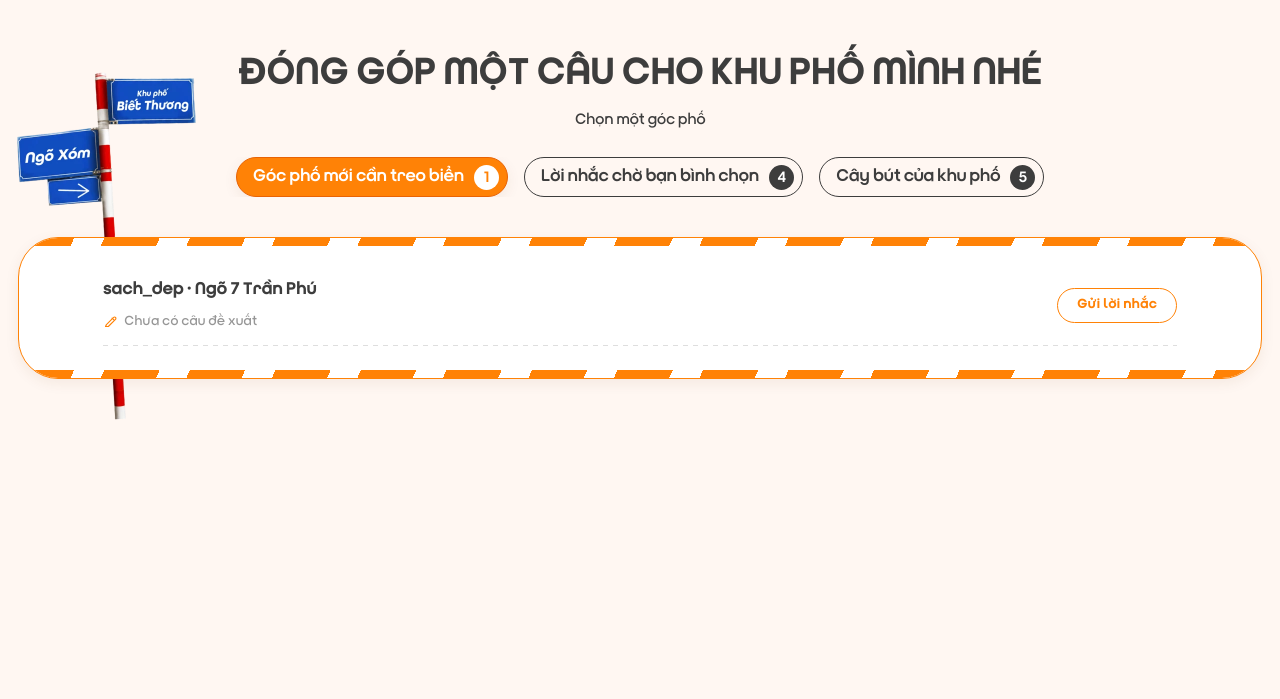
it: IssueBoard · B4/Q7 — tab 3 'Cây bút của khu phố' › huy hiệu hạng ≥4: KHÔNG có chữ TOP, số xám nhạt (.fig 7856:2708)
Click the text "Cây bút của khu phố" at (918, 177), box [836,163,1000,191]
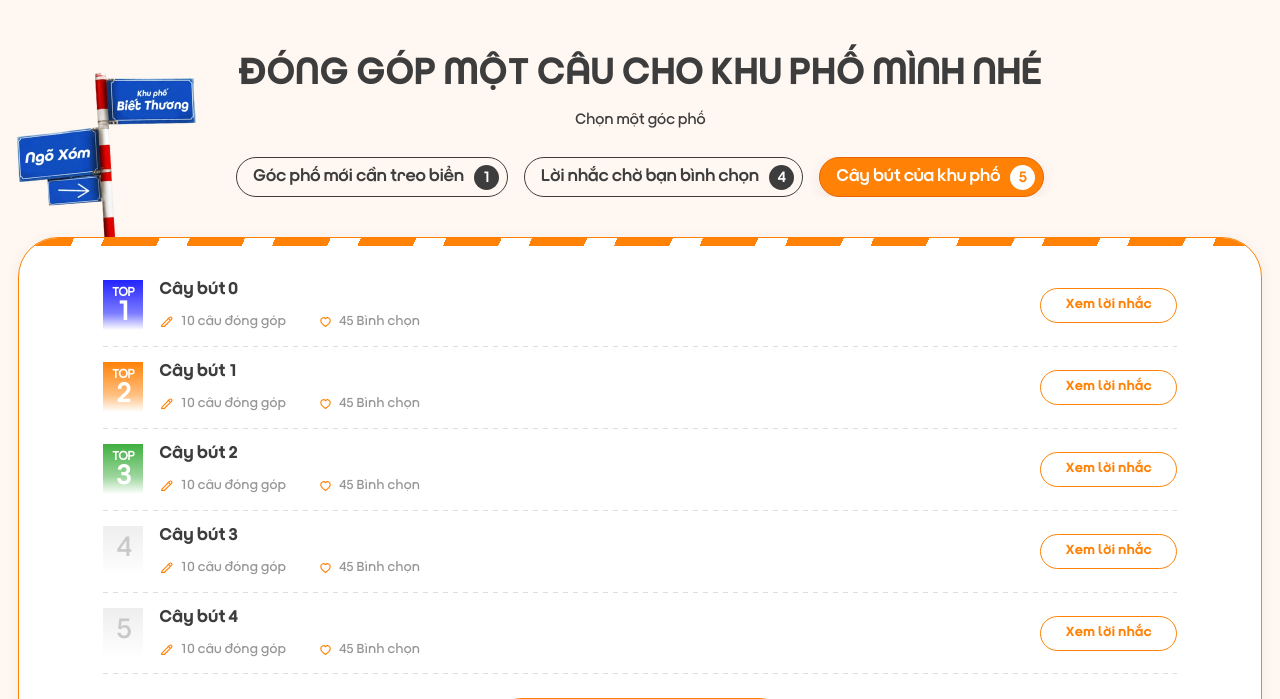
Expected: the element showing "TOP 1" is shown, [103,280,143,330]
Expected: the element showing "4" next to "Cây bút 3" is shown, [116,533,130,564]
Expected: the element showing "5" next to "Cây bút 4" is shown, [116,615,130,646]
